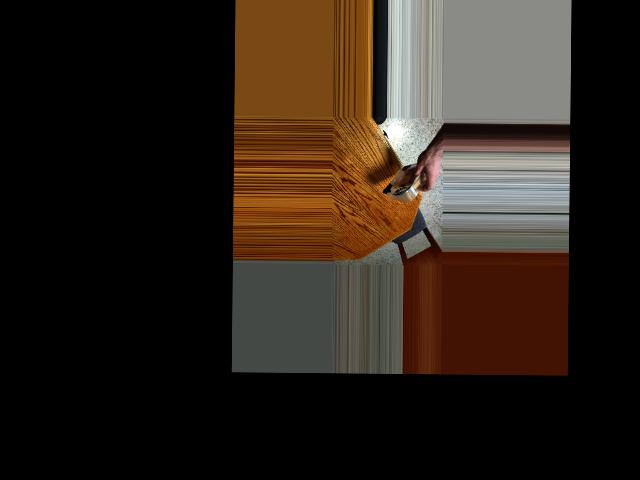cheese: (382, 151, 424, 209)
